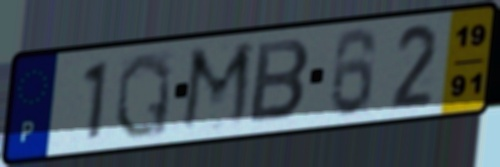1: (79, 57, 115, 142)
2: (389, 21, 441, 111)
6: (328, 25, 379, 122)
B: (246, 37, 314, 126)
M: (176, 38, 258, 136)
Q: (112, 49, 175, 141)
